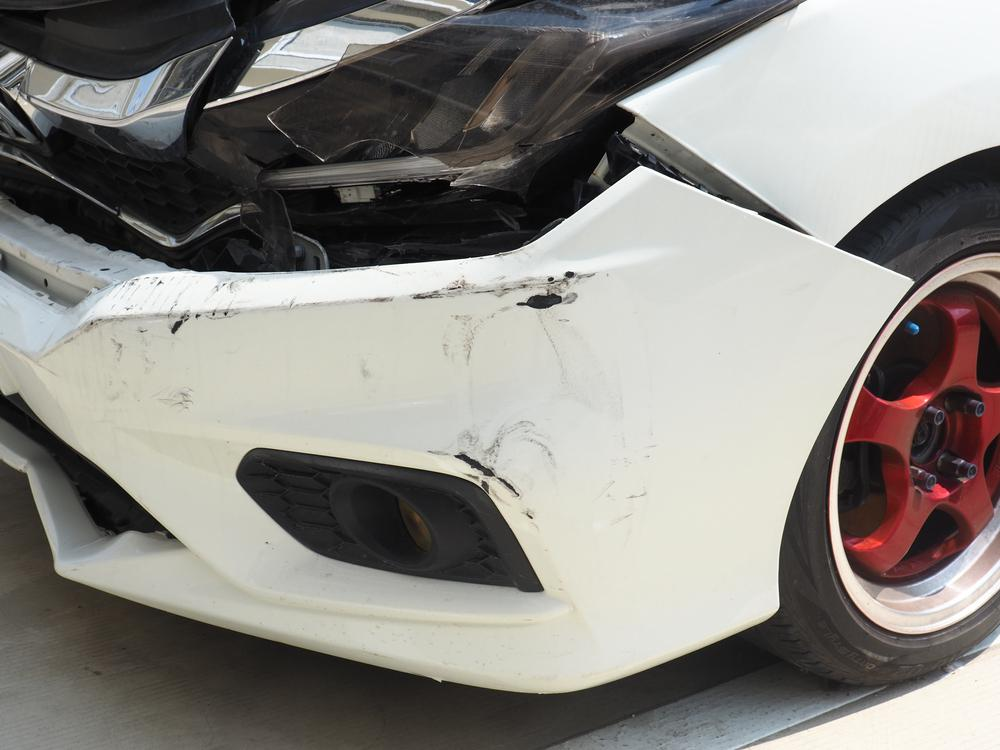lamp broken: (196, 0, 805, 268)
scratch: (92, 268, 663, 543)
